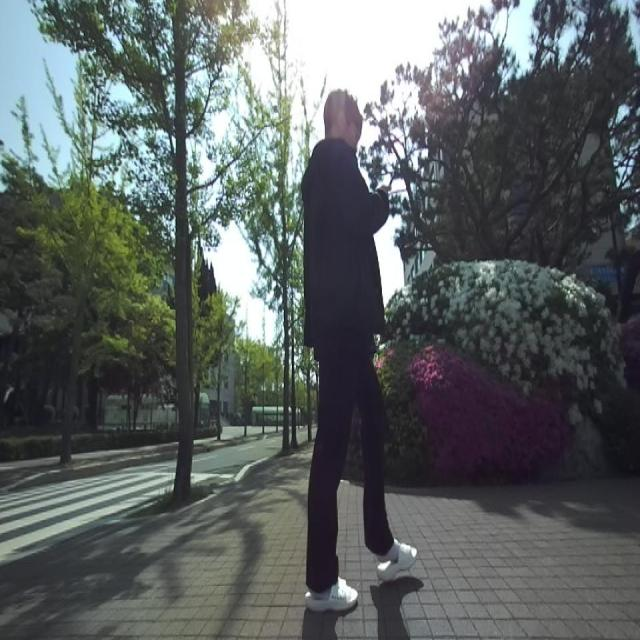sidewalk: (0, 446, 640, 639)
